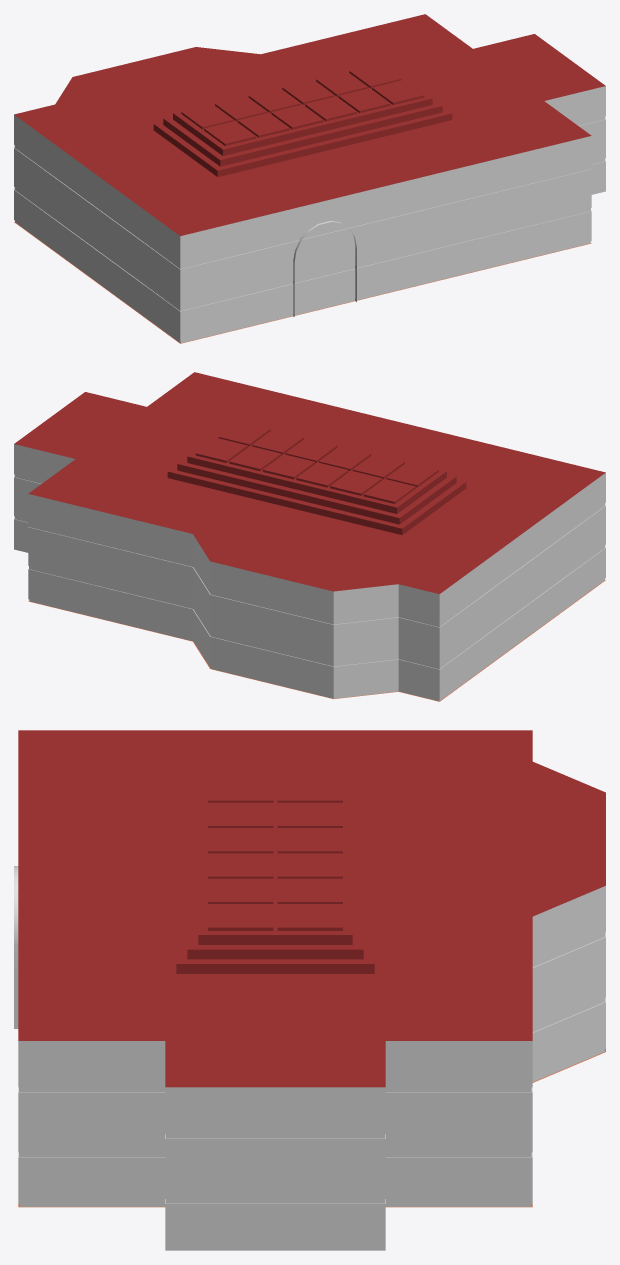
File: ArcadeHall_Structure.fbx
3 renders of one model, top to bottom at view 1: azimuth 30°, elevation 25°; view 2: azimuth 150°, elevation 25°; view 3: azimuth 270°, elevation 25°, orthographic. The views are drawn at different scales.
Parts seen in each view (by area): view 1: Ceiling, Walls, Floor; view 2: Ceiling, Walls, Floor; view 3: Ceiling, Walls, Door.
Part boxes in pixels (box(x1,y1,x2,y2)): Ceiling: box(14, 14, 605, 235); Walls: box(14, 86, 605, 343); Floor: box(14, 222, 591, 343); Ceiling: box(14, 372, 605, 593); Walls: box(14, 444, 605, 701); Floor: box(28, 580, 605, 701); Ceiling: box(18, 730, 605, 1087); Walls: box(18, 886, 605, 1250); Door: box(14, 866, 18, 1028).
Bounding box in the file's own units: 23 × 6 × 16.12.
